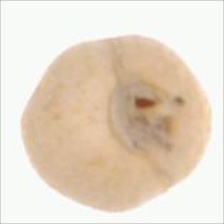L3: (107, 79, 174, 147)
L4: (22, 35, 212, 213)
